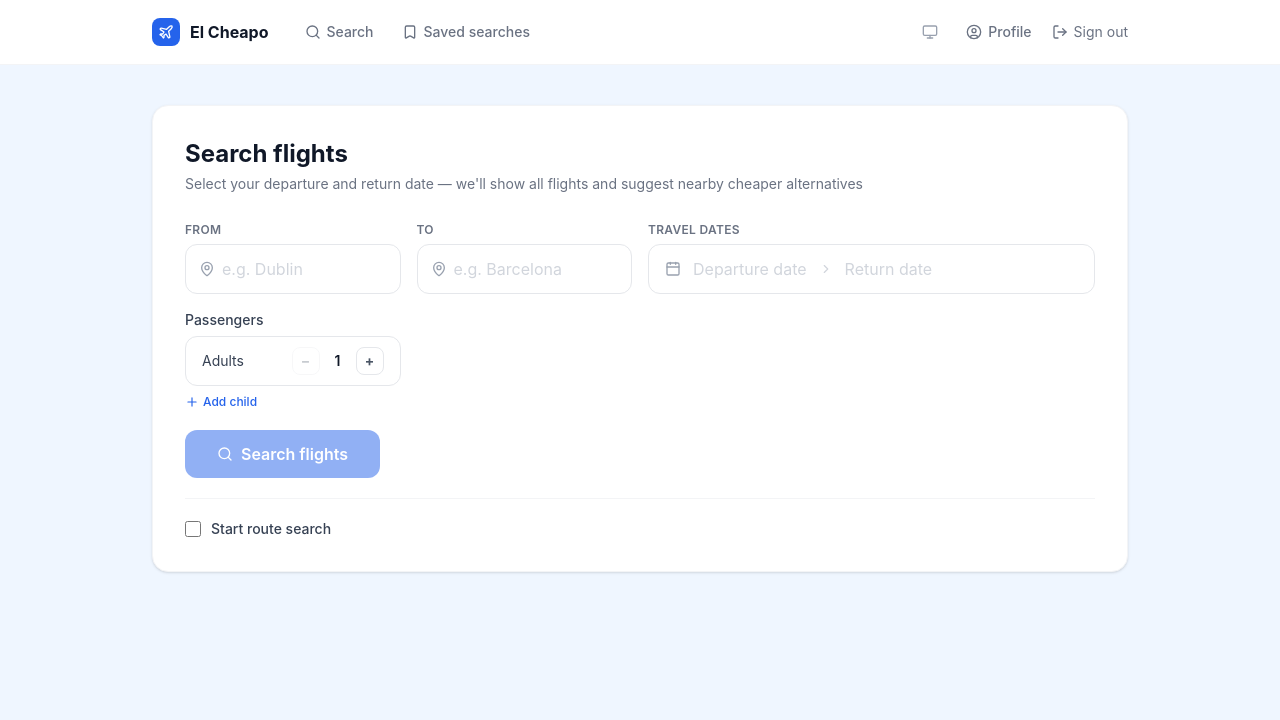
Scenario: Search — adults counter › increments adults when + is clicked
Check: the text "Adults" is shown, box [202,351,244,371]
Click the button "+". click: click(370, 361)
box: [356,347,384,375]
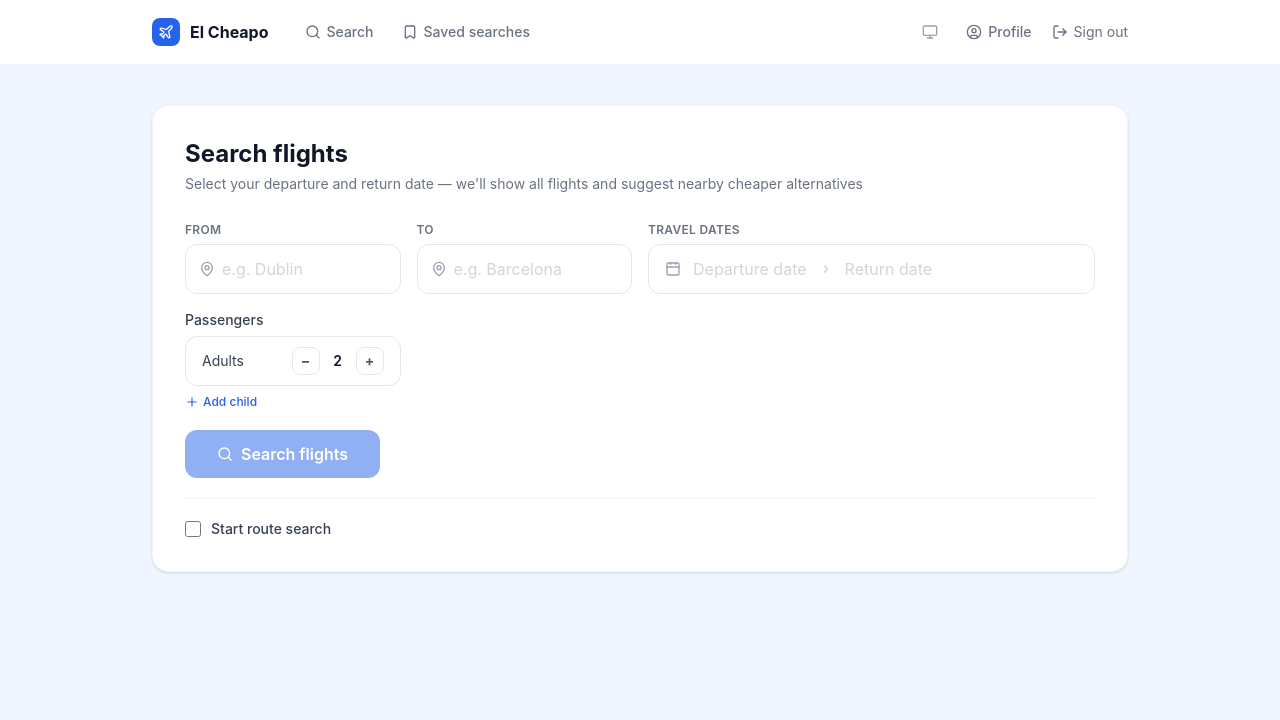
Check: the text "2" is shown, box [333,352,342,369]
